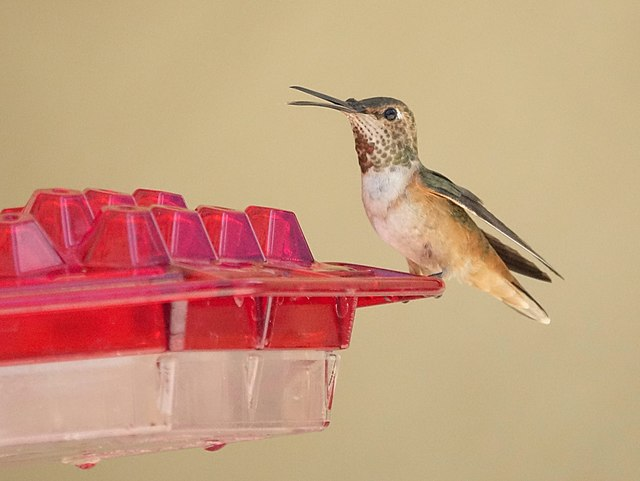selasphorus sasin: (284, 79, 553, 329)
